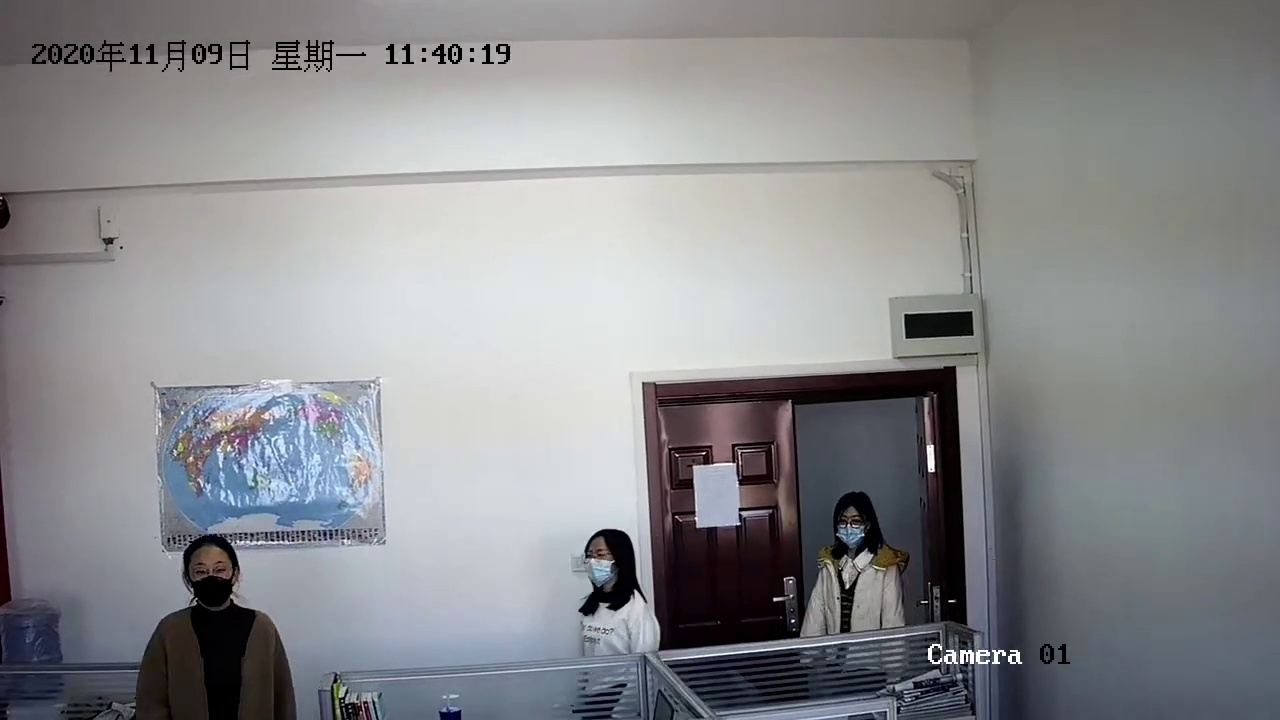mask: (174, 537, 250, 610), (577, 531, 639, 600), (832, 489, 881, 550)
